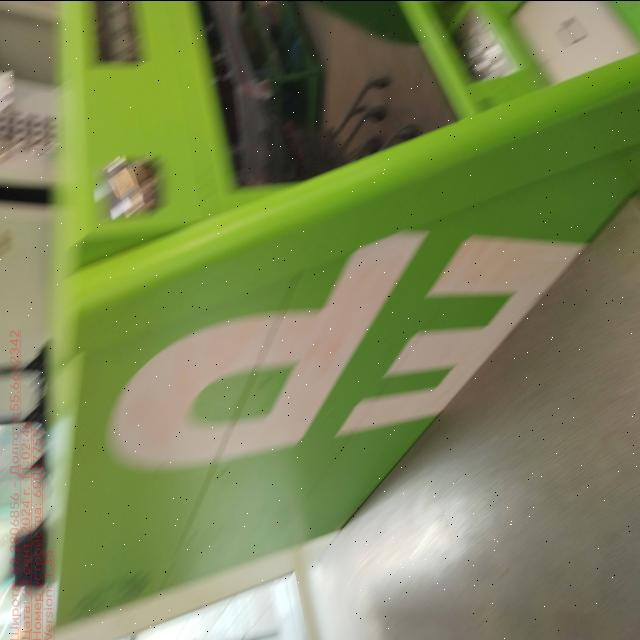bank: (41, 0, 640, 640)
